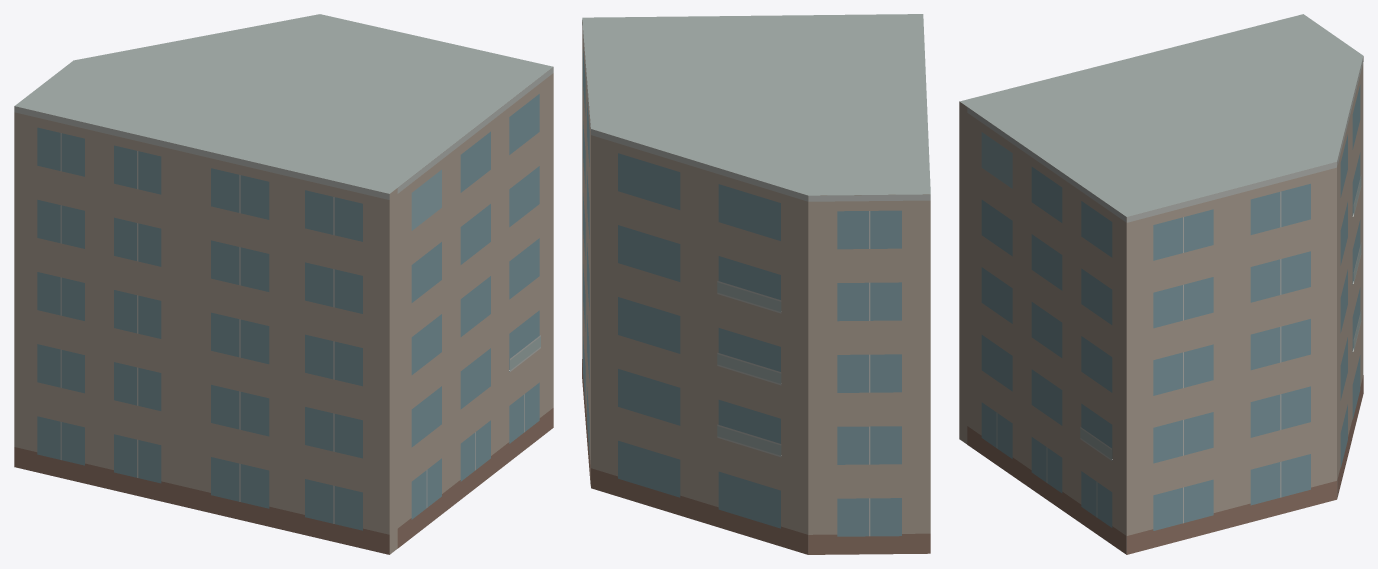
The model's file is survey-upis-32771758.glb.
3 renders of one model, left to right at view 1: azimuth 30°, elevation 25°; view 2: azimuth 150°, elevation 25°; view 3: azimuth 270°, elevation 25°, orthographic. The views are drawn at different scales.
Visible parts, largest first — view 1: survey-upis-32771758.tmp; view 2: survey-upis-32771758.tmp; view 3: survey-upis-32771758.tmp.
Part boxes in pixels (left/top/right/bottom): survey-upis-32771758.tmp: left=14, top=14, right=553, bottom=554; survey-upis-32771758.tmp: left=582, top=14, right=930, bottom=554; survey-upis-32771758.tmp: left=959, top=14, right=1363, bottom=554.
Size of the model in its own units: 18.32 by 14.2 by 15.4.
